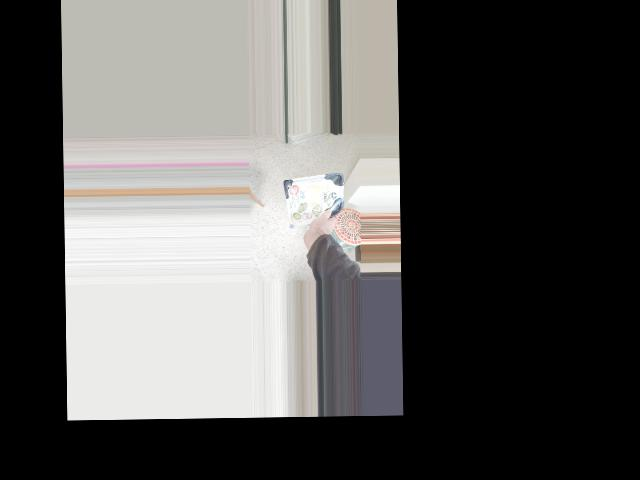cheese: (284, 189, 336, 237)
